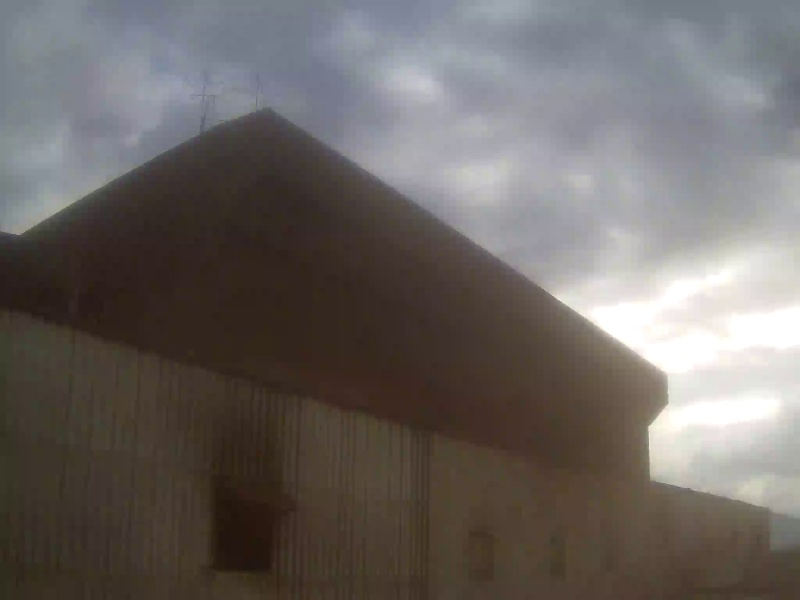bom: (292, 42, 702, 427), (4, 4, 313, 194)
